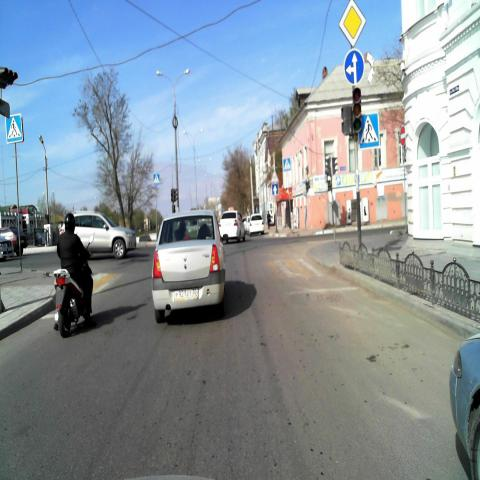2_1: (338, 0, 366, 47)
4_1_5: (343, 50, 363, 85)
5_19_1: (359, 110, 379, 147), (5, 114, 23, 144), (282, 158, 290, 172), (154, 174, 160, 186)
5_5: (271, 182, 277, 196)
